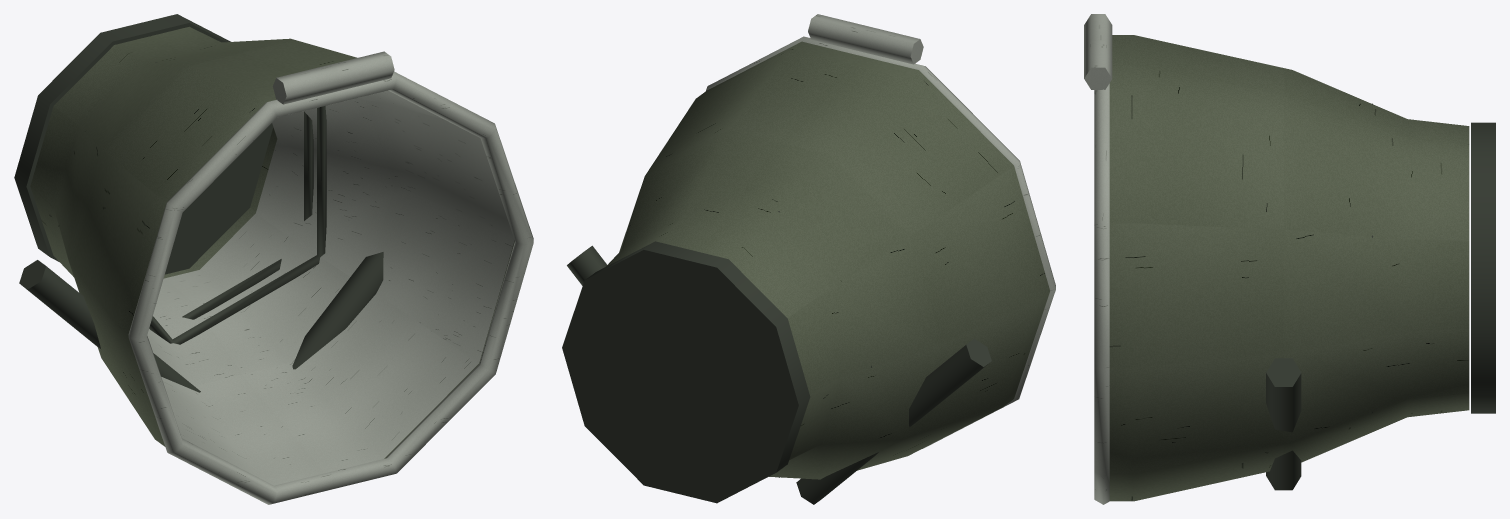
The model's file is SM_FieldKit_LampHead_LOD2.glb.
3 renders of one model, left to right at view 1: azimuth 30°, elevation 25°; view 2: azimuth 150°, elevation 25°; view 3: azimuth 270°, elevation 25°, orthographic. The views are drawn at different scales.
Parts seen in each view (by area): view 1: SM_FieldKit_LampHead_LOD2; view 2: SM_FieldKit_LampHead_LOD2; view 3: SM_FieldKit_LampHead_LOD2.
Boxes of the visible parts, x1,y1,x2,y2 form: SM_FieldKit_LampHead_LOD2: [14, 14, 533, 504]; SM_FieldKit_LampHead_LOD2: [562, 14, 1055, 504]; SM_FieldKit_LampHead_LOD2: [1084, 14, 1495, 504].
Size of the model in its own units: 0.2923 by 0.2703 by 0.233.
3 materials, 2 textured.
